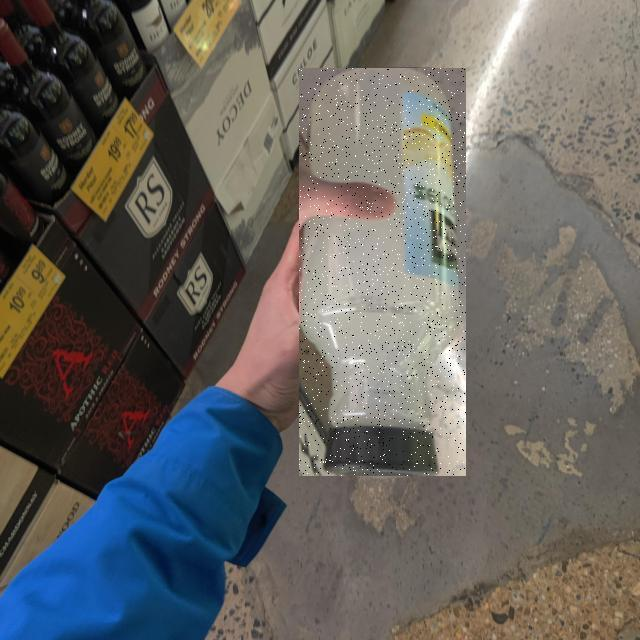Juice: (299, 68, 466, 476)
